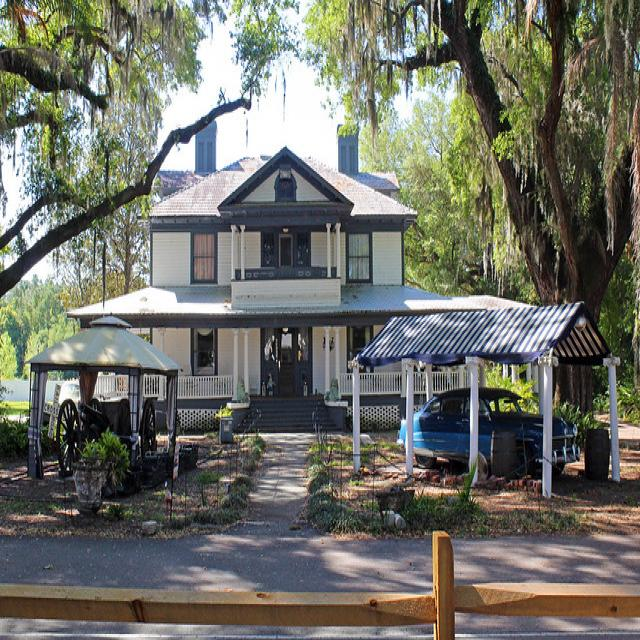Normal_building: (56, 99, 458, 456), (350, 306, 625, 507), (26, 318, 183, 485)
